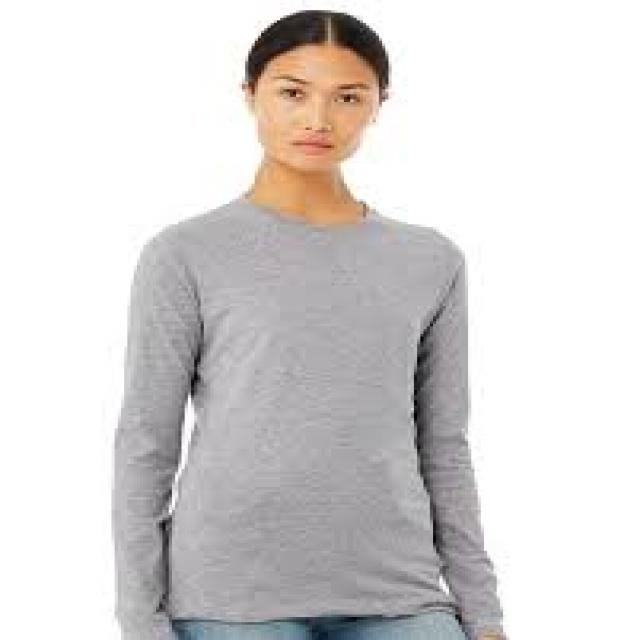plain: (53, 192, 569, 624)
